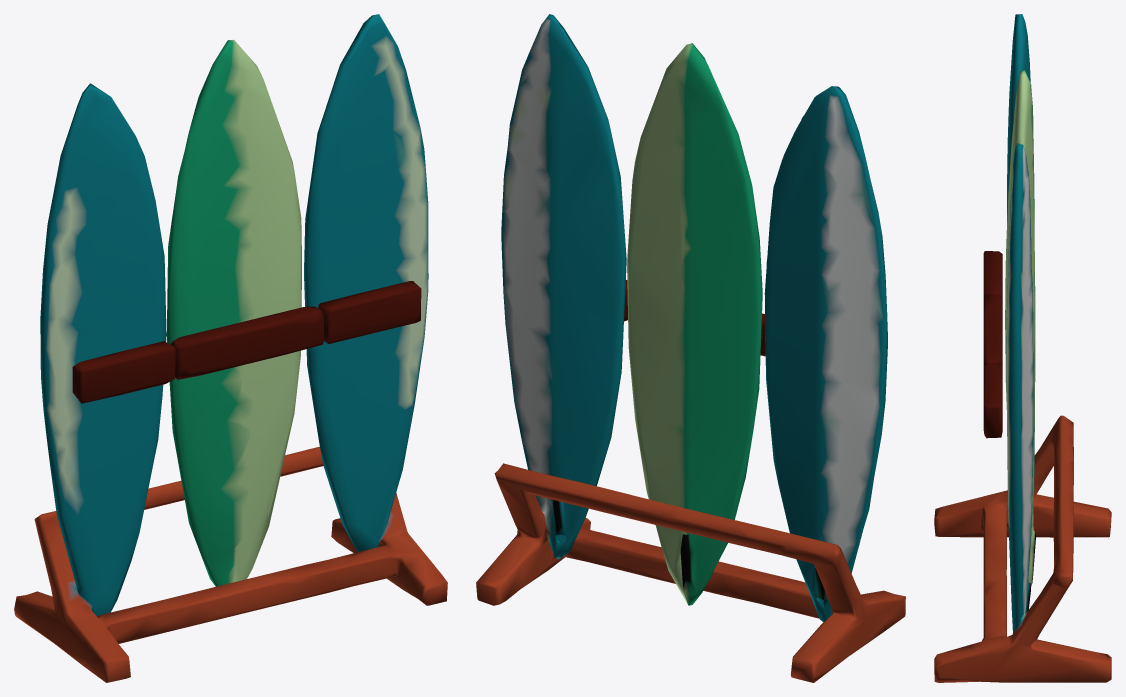
File: gen3d-surf-rack-lod0.glb
3 renders of one model, left to right at view 1: azimuth 30°, elevation 25°; view 2: azimuth 150°, elevation 25°; view 3: azimuth 270°, elevation 25°, orthographic. The views are drawn at different scales.
Parts seen in each view (by area): view 1: part_0; view 2: part_0; view 3: part_0.
Part boxes in pixels (x1=…): part_0: x1=14, y1=14, x2=447, y2=682; part_0: x1=476, y1=14, x2=905, y2=682; part_0: x1=934, y1=14, x2=1111, y2=682.
Bounding box in the file's own units: 0.7111 × 0.9974 × 0.3.
